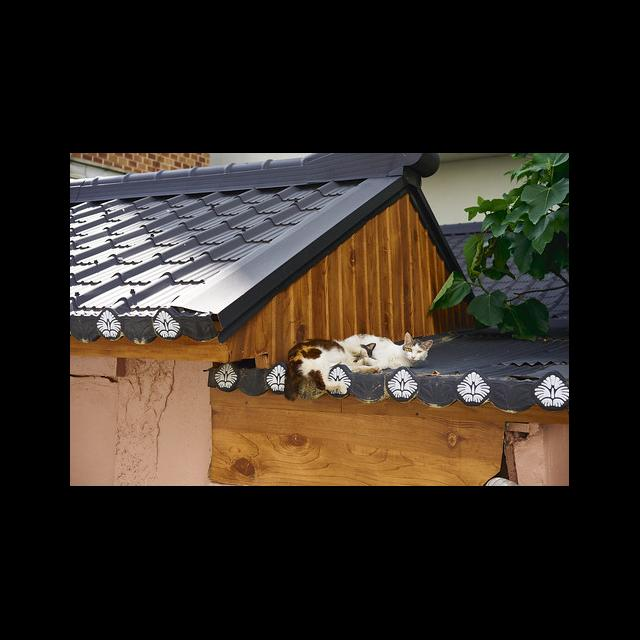animals: (270, 334, 376, 402), (335, 332, 434, 374)
